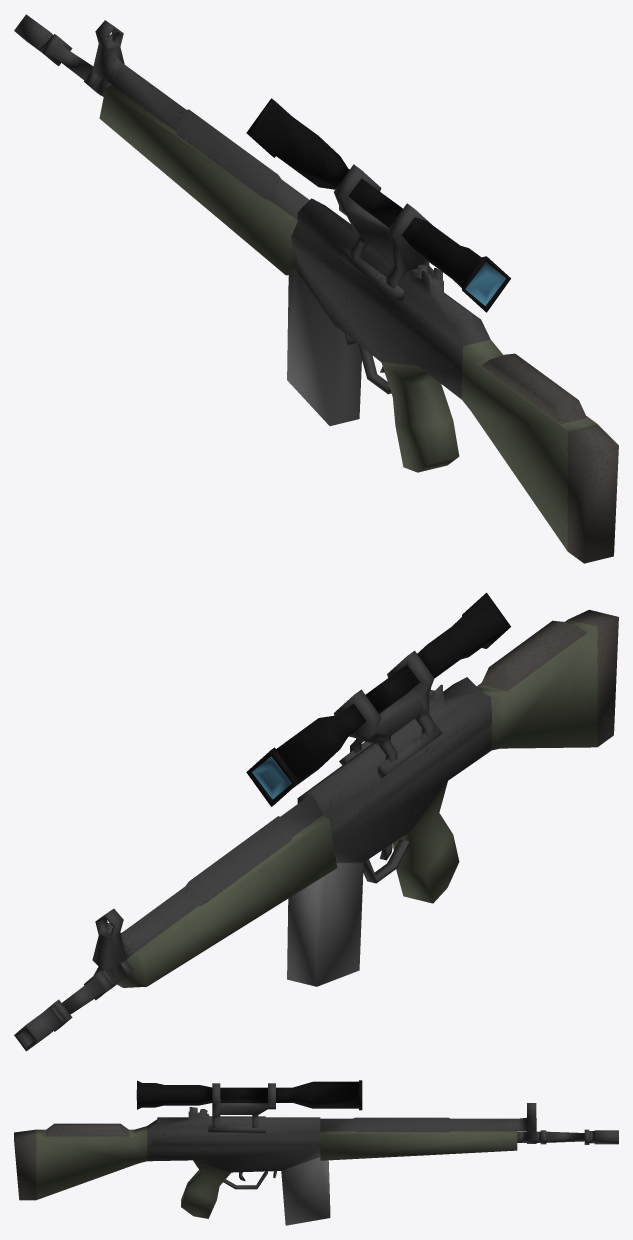
The model's file is autosniper.glb.
3 views of the same model, one above another, from view 1: azimuth 30°, elevation 25°; view 2: azimuth 150°, elevation 25°; view 3: azimuth 270°, elevation 25° (orthographic). The views are drawn at different scales.
Parts seen in each view (by area): view 1: mesh; view 2: mesh; view 3: mesh.
Boxes of the visible parts, box(x1,y1,x2,y2) form: mesh: box(14, 14, 618, 563); mesh: box(14, 592, 618, 1051); mesh: box(14, 1080, 618, 1225).
Bounding box in the file's own units: 1.27 × 6.36 × 24.6.
Materials: 1 (1 with a texture image).
